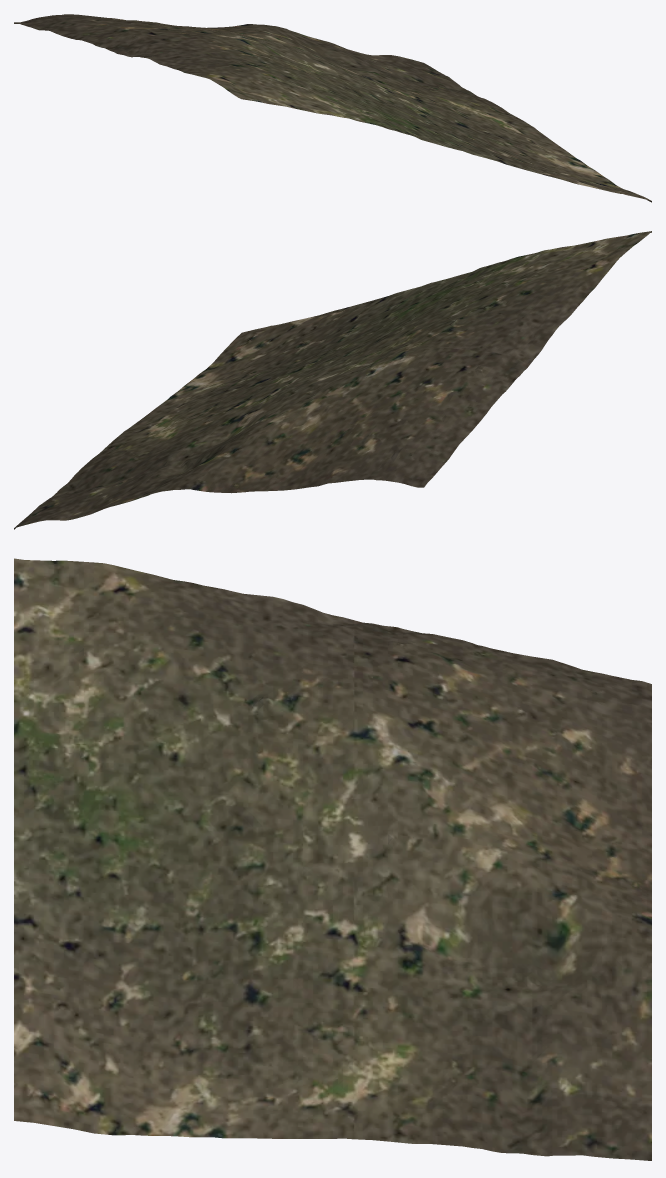
3 views of the same model, one above another, from view 1: azimuth 30°, elevation 25°; view 2: azimuth 150°, elevation 25°; view 3: azimuth 270°, elevation 25° (orthographic). The views are drawn at different scales.
Bounding box in the file's own units: 250 × 135 × 241.
1 material, 1 textured.
